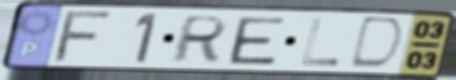1: (131, 11, 159, 66)
D: (345, 15, 408, 72)
E: (227, 16, 289, 67)
F: (49, 9, 118, 64)
L: (298, 17, 341, 68)
R: (166, 14, 232, 65)
